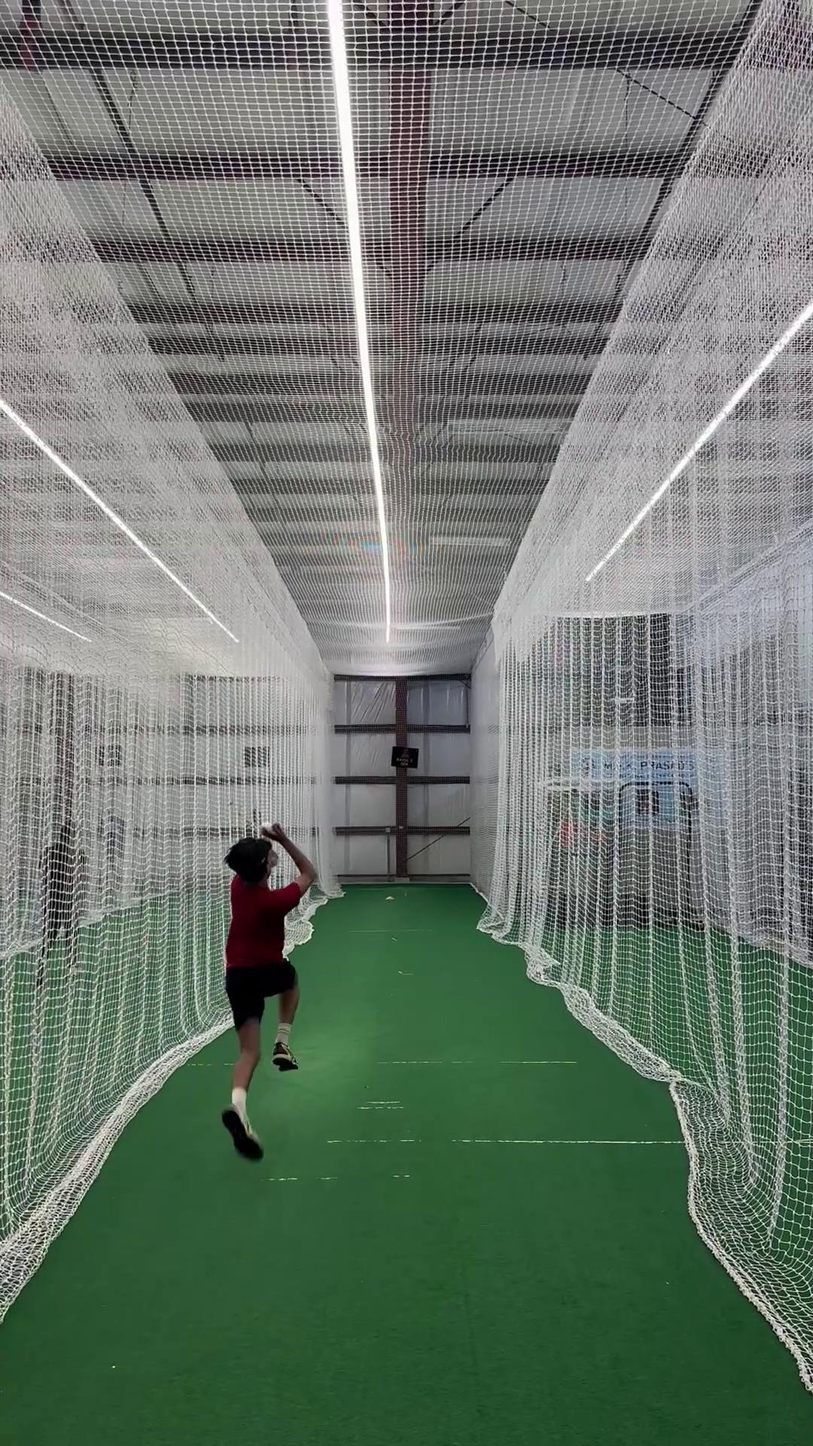ball: (255, 820, 281, 839)
